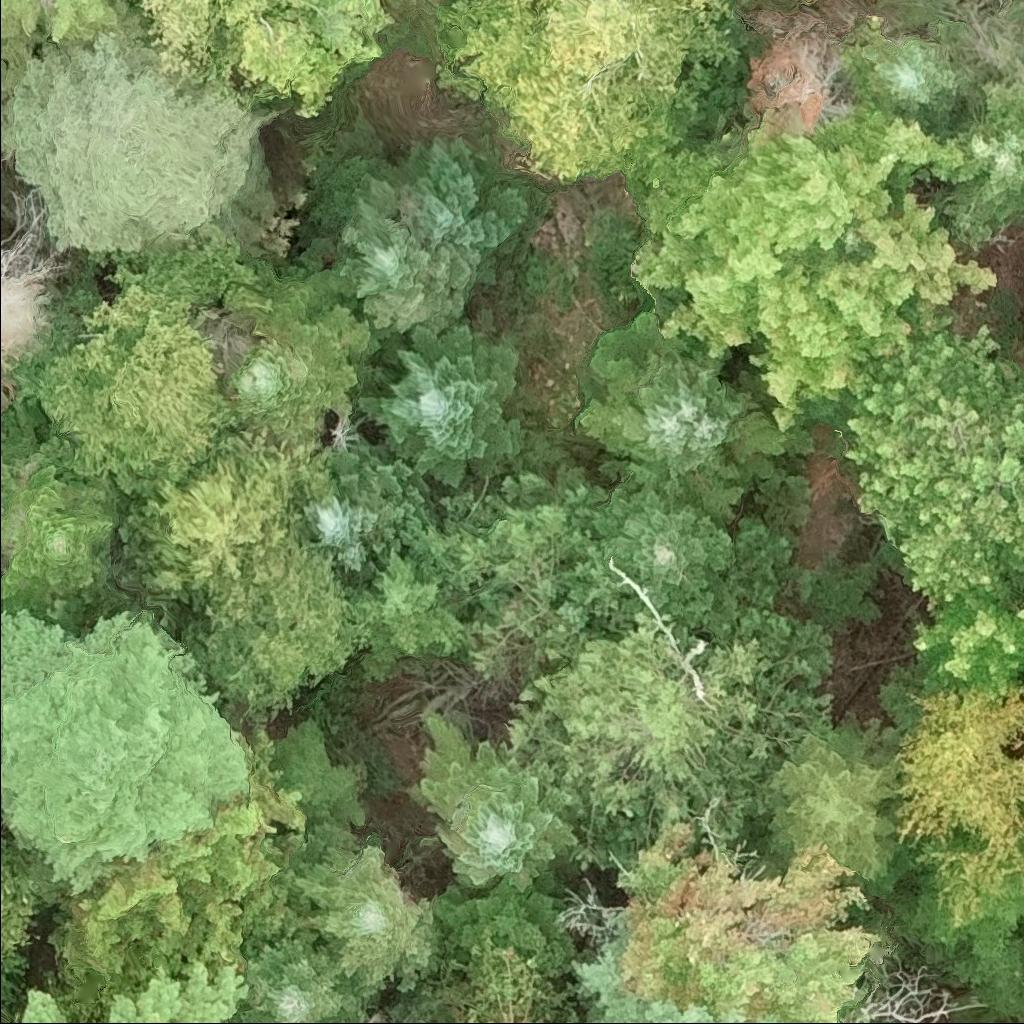crown: (626, 99, 1001, 437), (494, 604, 841, 872), (41, 723, 311, 1023), (0, 601, 247, 897), (16, 236, 275, 510), (0, 30, 302, 262), (842, 299, 1023, 619), (438, 0, 740, 186), (614, 818, 882, 1023), (114, 423, 336, 598), (576, 313, 788, 493), (176, 540, 362, 720), (404, 709, 583, 891), (893, 682, 1023, 928), (299, 168, 477, 347), (752, 710, 912, 900), (359, 318, 532, 492), (586, 462, 747, 647), (228, 258, 383, 449), (287, 816, 443, 997), (383, 134, 554, 290), (572, 913, 790, 1023), (0, 424, 124, 613), (887, 863, 1023, 1019), (302, 438, 439, 586), (130, 0, 319, 100), (0, 187, 75, 417), (428, 873, 582, 974), (351, 549, 464, 684), (844, 15, 969, 130), (228, 928, 364, 1023), (940, 95, 1023, 250), (911, 584, 1023, 698), (463, 930, 584, 1023), (0, 830, 59, 1011), (0, 0, 148, 72), (107, 958, 251, 1023), (940, 117, 1003, 185), (15, 984, 68, 1023), (357, 1009, 405, 1023)
